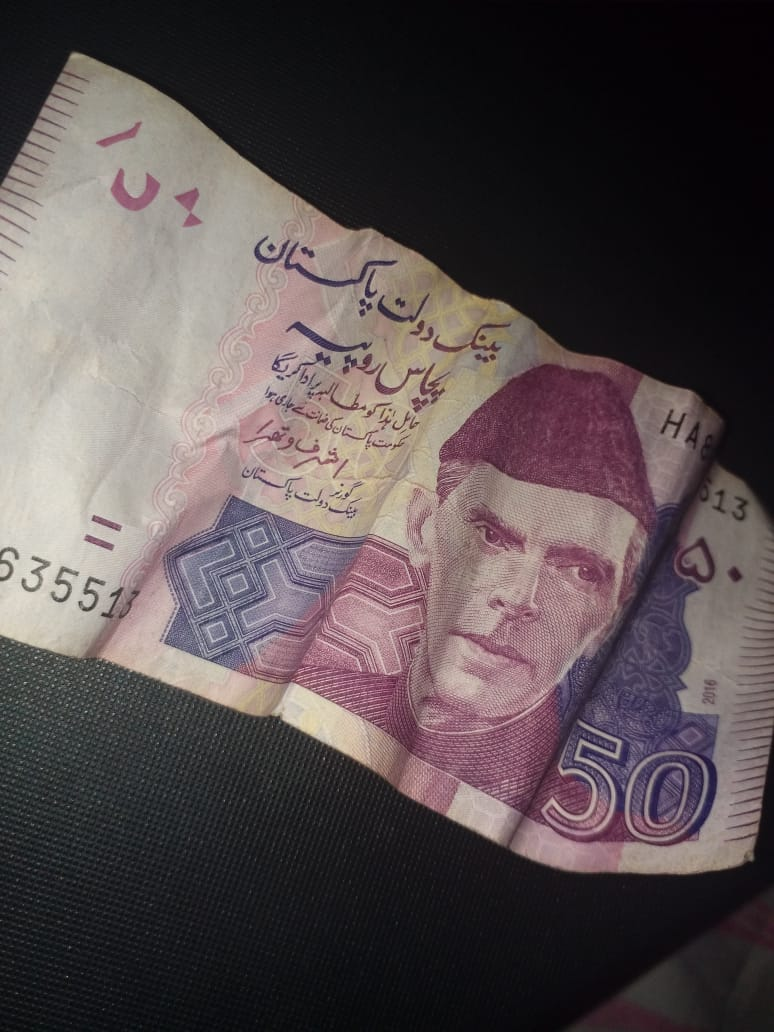50 rupee: (33, 22, 756, 911)
